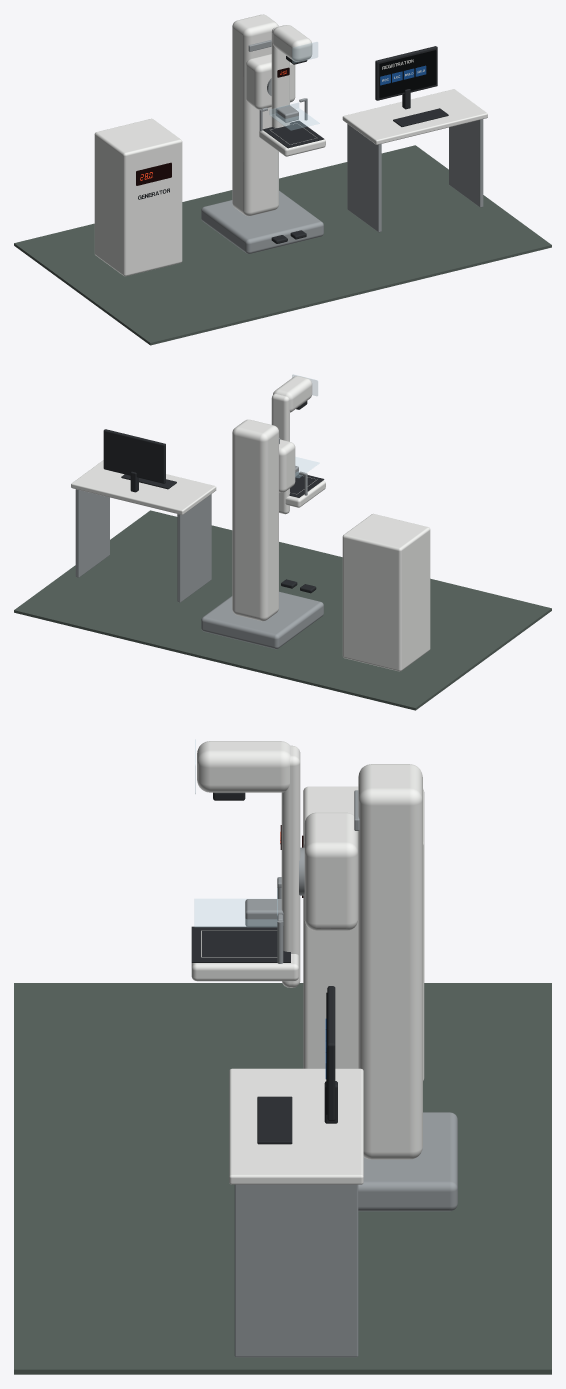
Rendered from mammography.glb.
3 views of the same model, one above another, from view 1: azimuth 30°, elevation 25°; view 2: azimuth 150°, elevation 25°; view 3: azimuth 270°, elevation 25° (orthographic). The views are drawn at different scales.
Parts seen in each view (by area): view 1: floor__floor, station__medical-white, frame__medical-white, station__medical-grey, frame__medical-grey, carm__medical-white, station__screen-glass, station__plastic-dark, carm__acrylic, carm__plastic-dark, carm__medical-grey, station__display-glass (+1 smaller); view 2: floor__floor, station__medical-white, frame__medical-white, station__medical-grey, frame__medical-grey, station__plastic-dark, carm__medical-white, carm__plastic-dark; view 3: floor__floor, frame__medical-white, station__medical-white, station__medical-grey, carm__medical-white, frame__medical-grey, carm__plastic-dark, station__plastic-dark, carm__acrylic, carm__medical-grey.
Boxes of the visible parts, x1,y1,x2,y2 form: floor__floor: (14,145,551,345); station__medical-white: (94,89,487,276); frame__medical-white: (232,14,295,216); station__medical-grey: (347,119,483,232); frame__medical-grey: (201,40,323,253); carm__medical-white: (259,25,325,156); station__screen-glass: (379,50,436,98); station__plastic-dark: (375,46,448,126); carm__acrylic: (269,42,319,130); carm__plastic-dark: (262,56,324,148); carm__medical-grey: (259,78,307,131); station__display-glass: (136,162,171,185); floor__floor: (14,510,551,710); station__medical-white: (71,460,430,671); frame__medical-white: (232,419,295,621); station__medical-grey: (75,489,211,602); frame__medical-grey: (201,438,323,649); station__plastic-dark: (103,429,176,492); carm__medical-white: (271,376,325,514); carm__plastic-dark: (289,401,324,497); floor__floor: (14,983,551,1374); frame__medical-white: (304,764,422,1159); station__medical-white: (229,786,424,1184); station__medical-grey: (234,1184,358,1357); carm__medical-white: (191,741,300,987); frame__medical-grey: (354,790,457,1211); carm__plastic-dark: (191,792,290,962); station__plastic-dark: (257,986,337,1144); carm__acrylic: (194,739,277,927); carm__medical-grey: (245,847,304,963).
Bounding box in the file's own units: 3.4 × 1.78 × 2.
